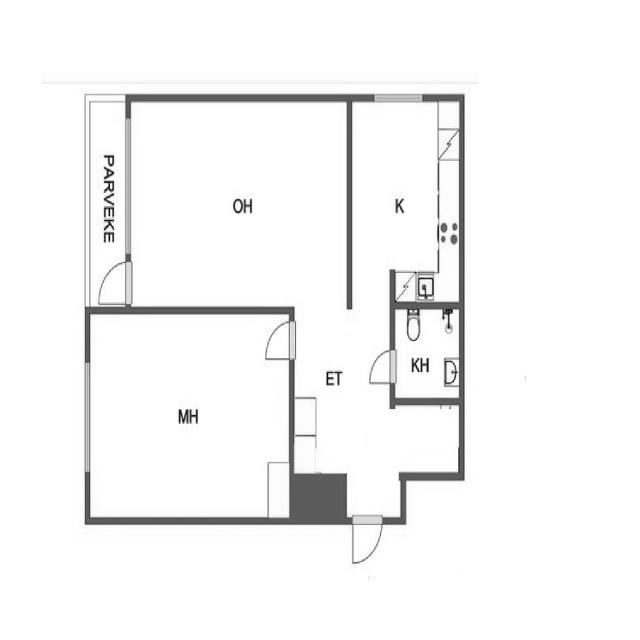door: (348, 514, 385, 567), (261, 316, 296, 367), (97, 258, 134, 306), (365, 346, 398, 392)
window: (394, 305, 464, 403), (120, 108, 134, 255), (80, 361, 94, 474), (366, 85, 430, 108)
zone: (126, 101, 353, 313), (86, 310, 294, 526), (349, 92, 464, 305), (292, 310, 403, 520), (393, 305, 463, 405), (400, 400, 461, 477)
